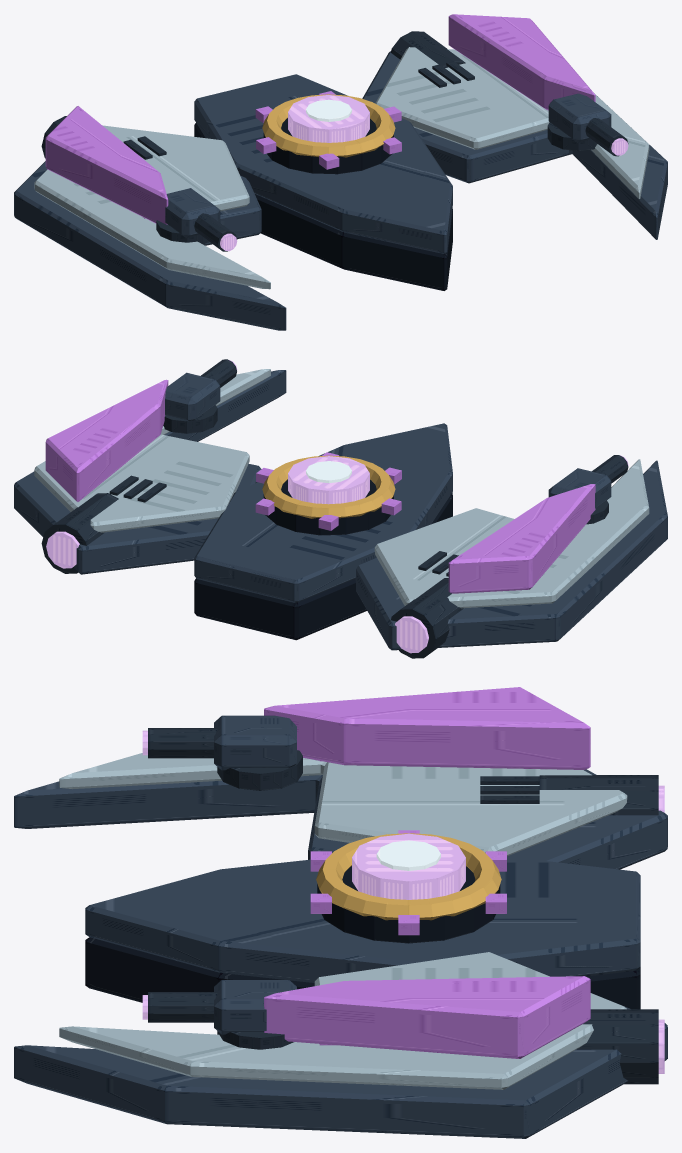
Rendered from boss-03-weaver.glb.
3 renders of one model, top to bottom at view 1: azimuth 30°, elevation 25°; view 2: azimuth 150°, elevation 25°; view 3: azimuth 270°, elevation 25°, orthographic. The views are drawn at different scales.
Visible parts, largest first — view 1: Boss_Ship_Geometry, Core_Geometry, Turret_R_Geometry, Turret_L_Geometry; view 2: Boss_Ship_Geometry, Core_Geometry, Turret_R_Geometry, Turret_L_Geometry; view 3: Boss_Ship_Geometry, Core_Geometry, Turret_L_Geometry, Turret_R_Geometry.
Part boxes in pixels (x1,y1,x2,y2): Boss_Ship_Geometry: (14,14,667,330); Core_Geometry: (255,91,401,174); Turret_R_Geometry: (547,93,628,156); Turret_L_Geometry: (156,188,237,251); Boss_Ship_Geometry: (14,369,667,658); Core_Geometry: (255,452,401,535); Turret_R_Geometry: (163,359,237,433); Turret_L_Geometry: (548,455,628,524); Boss_Ship_Geometry: (14,687,667,1138); Core_Geometry: (310,830,506,943); Turret_L_Geometry: (142,715,302,790); Turret_R_Geometry: (142,980,296,1049).
Bounding box in the file's own units: 7.4 × 1.3 × 5.55.
8 materials, 8 textured.
